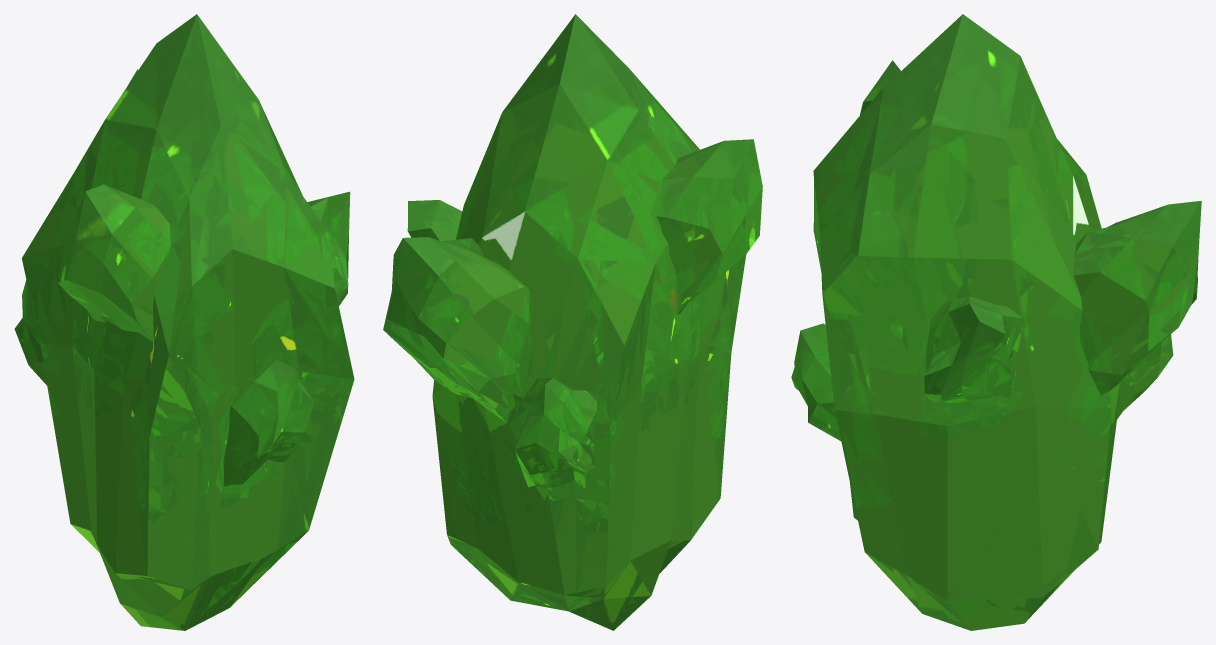
The model's file is FulguriteModel.fbx.
The picture shows the model from 3 angles, left to right: view 1: azimuth 30°, elevation 25°; view 2: azimuth 150°, elevation 25°; view 3: azimuth 270°, elevation 25°; orthographic projection. The views are drawn at different scales.
Visible parts, largest first — view 1: Cube.009; view 2: Cube.009; view 3: Cube.009.
Part boxes in pixels (bbox=[...]): Cube.009: bbox=[14, 14, 354, 630]; Cube.009: bbox=[383, 14, 762, 630]; Cube.009: bbox=[791, 14, 1201, 630].
Bounding box in the file's own units: 274 × 496 × 298.
